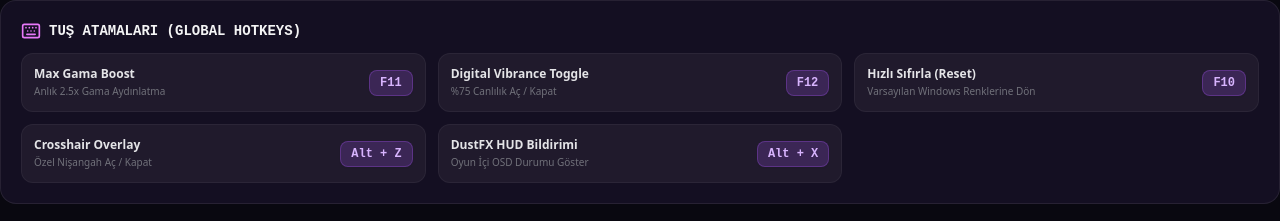
Test: HotkeyManagerUI › updates the hotkey state when a new key is pressed
Click to edit the first hotkey (Max Gama Boost)
Click the element with test id "hotkey-item-1" at (223, 82), box left=21, top=53, right=426, bottom=112
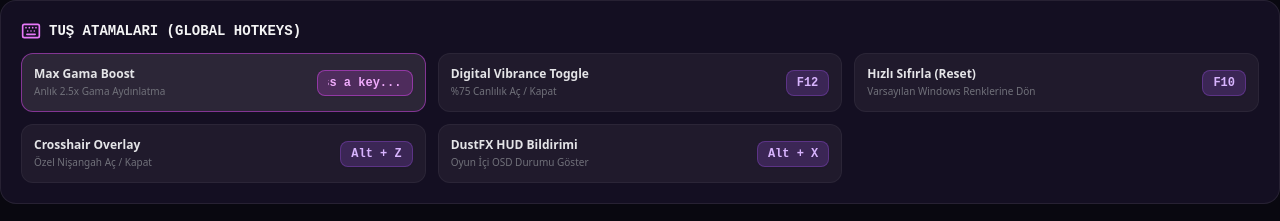
Simulate pressing 'Ctrl' + 'J'
Type keys "{Control>}J{/Control}"
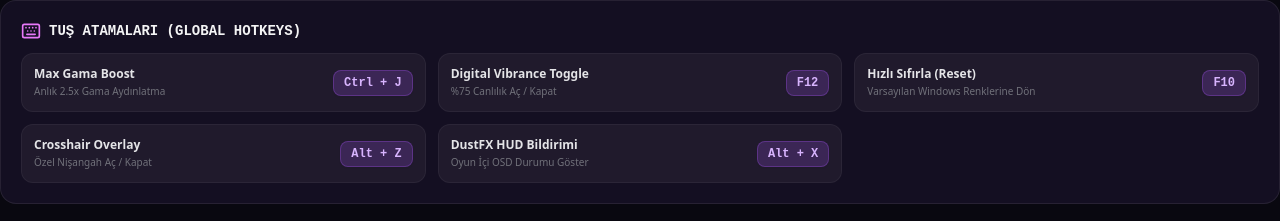
Expected: the text "F11" is not shown
Expected: the field with test id "hotkey-input-1" is gone
Expected: the text "Ctrl + J" is shown, left=333, top=70, right=413, bottom=96
